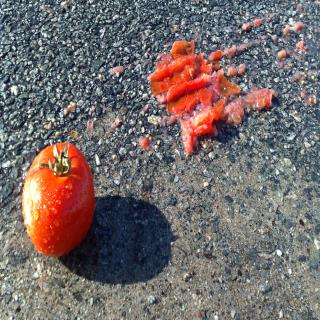tomato: (17, 138, 90, 261)
